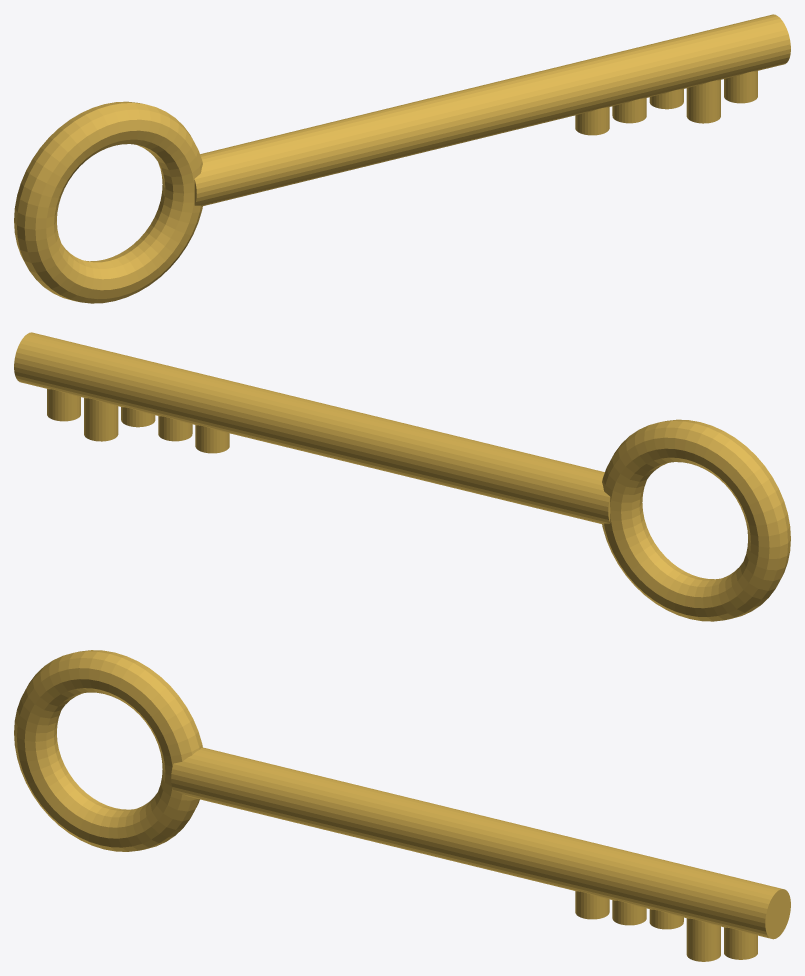
The model's file is Key.fbx.
3 renders of one model, top to bottom at view 1: azimuth 30°, elevation 25°; view 2: azimuth 150°, elevation 25°; view 3: azimuth 330°, elevation 25°, orthographic.
Visible parts, largest first — view 1: Cylinder.001; view 2: Cylinder.001; view 3: Cylinder.001.
Boxes of the visible parts, x1,y1,x2,y2 form: Cylinder.001: (14,14,790,303); Cylinder.001: (14,332,790,621); Cylinder.001: (14,650,790,961).
Size of the model in its own units: 1025 by 250 by 60.
